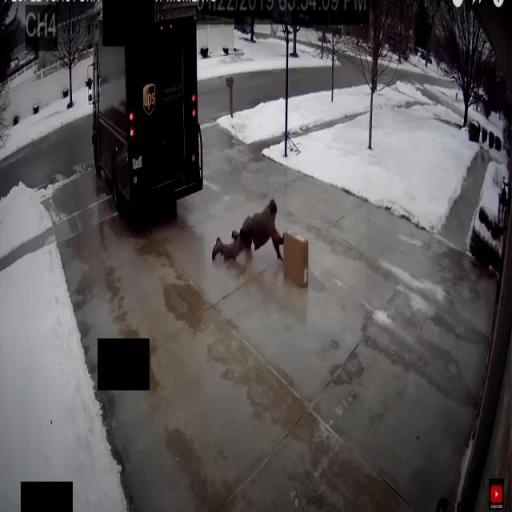Fall: (211, 196, 288, 270)
